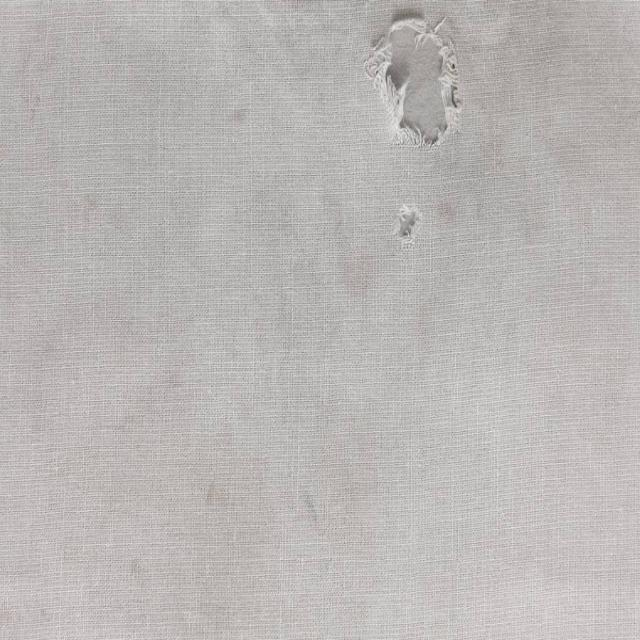Hole: (365, 15, 462, 147), (393, 203, 423, 250)
